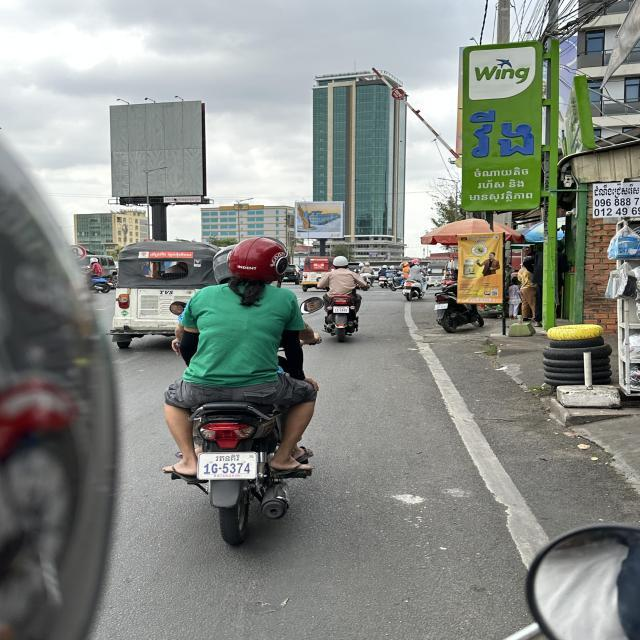Ratanakiri: (215, 454, 243, 463)
